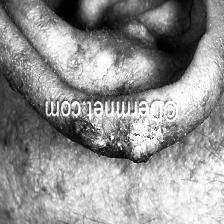Potentially Malignant Skin Tumors: (72, 119, 170, 164)
